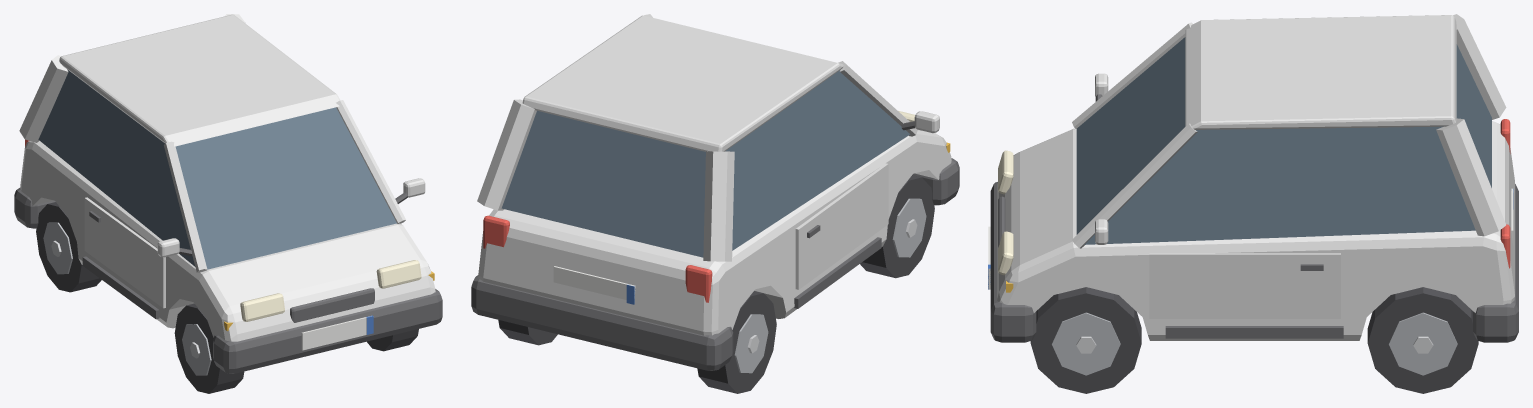
The model's file is car-mini.glb.
The picture shows the model from 3 angles, left to right: view 1: azimuth 30°, elevation 25°; view 2: azimuth 150°, elevation 25°; view 3: azimuth 270°, elevation 25°; orthographic projection. The views are drawn at different scales.
Visible parts, largest first — view 1: body, detach_bumper_front, detach_door_right, wheel-back-right, wheel-front-right, detach_bumper_back, wheel-front-left, detach_mirror_right, detach_mirror_left; view 2: body, detach_bumper_back, detach_door_right, wheel-front-right, wheel-back-right, detach_bumper_front, wheel-back-left, detach_mirror_right; view 3: body, detach_door_left, wheel-front-left, wheel-back-left, detach_bumper_front, detach_bumper_back.
Part boxes in pixels (left/top/right/bottom): body: left=19, top=14, right=435, bottom=341; detach_bumper_front: left=213, top=289, right=442, bottom=373; detach_door_right: left=84, top=197, right=165, bottom=308; wheel-back-right: left=36, top=202, right=101, bottom=292; wheel-front-right: left=174, top=303, right=244, bottom=393; detach_bumper_back: left=14, top=187, right=55, bottom=228; wheel-front-left: left=367, top=329, right=418, bottom=351; detach_mirror_right: left=157, top=238, right=192, bottom=257; detach_mirror_left: left=395, top=178, right=425, bottom=203; body: left=477, top=14, right=951, bottom=335; detach_bumper_back: left=471, top=275, right=733, bottom=370; detach_door_right: left=795, top=163, right=888, bottom=289; wheel-front-right: left=860, top=175, right=934, bottom=278; wheel-back-right: left=697, top=291, right=776, bottom=393; detach_bumper_front: left=912, top=158, right=959, bottom=205; wheel-back-left: left=498, top=320, right=557, bottom=345; detach_mirror_right: left=901, top=111, right=939, bottom=133; body: left=997, top=14, right=1514, bottom=340; detach_door_left: left=1149, top=253, right=1340, bottom=318; wheel-front-left: left=1030, top=287, right=1141, bottom=393; wheel-back-left: left=1367, top=287, right=1478, bottom=393; detach_bumper_front: left=988, top=182, right=1036, bottom=342; detach_bumper_back: left=1473, top=184, right=1518, bottom=342.
Bounding box in the file's own units: 1.94 × 1.55 × 2.77.
